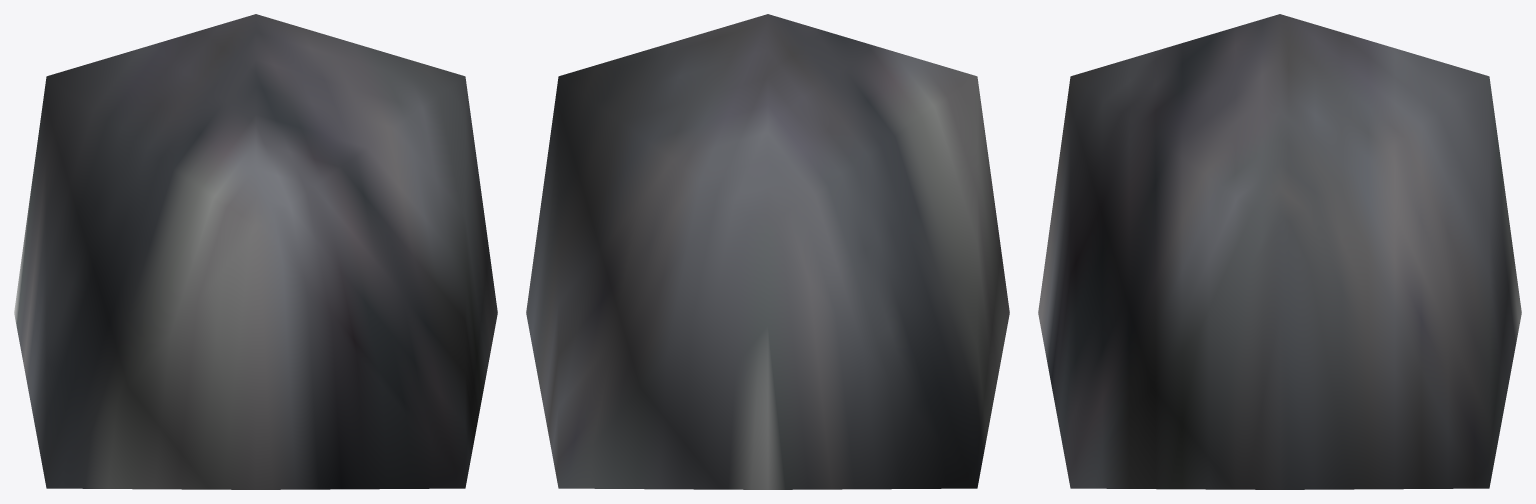
Rendered from Civilian - Civilian Building - Bridg D 07 - CBBridgD07.glb.
3 renders of one model, left to right at view 1: azimuth 30°, elevation 25°; view 2: azimuth 150°, elevation 25°; view 3: azimuth 270°, elevation 25°, orthographic.
Parts seen in each view (by area): view 1: CBBRIDGD07; view 2: CBBRIDGD07; view 3: CBBRIDGD07.
Part boxes in pixels (box(x1,y1,x2,y2)): CBBRIDGD07: box(14, 14, 497, 489); CBBRIDGD07: box(526, 14, 1009, 489); CBBRIDGD07: box(1038, 14, 1521, 489).
Size of the model in its own units: 5.55 by 4.98 by 5.15.
Materials: 1 (1 with a texture image).
